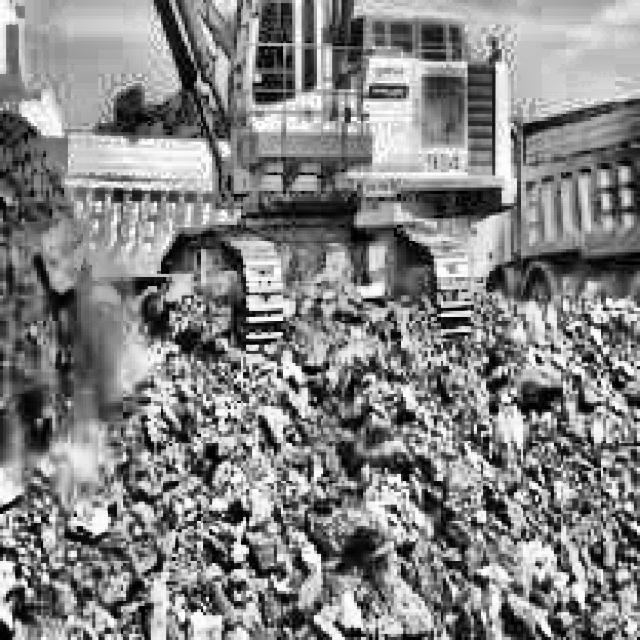dump_truck: (37, 124, 240, 294), (517, 80, 640, 323)
excavator: (0, 0, 517, 409)
